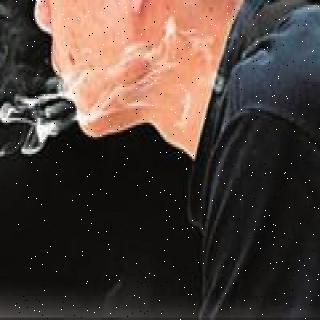smoke: (0, 25, 232, 148)
